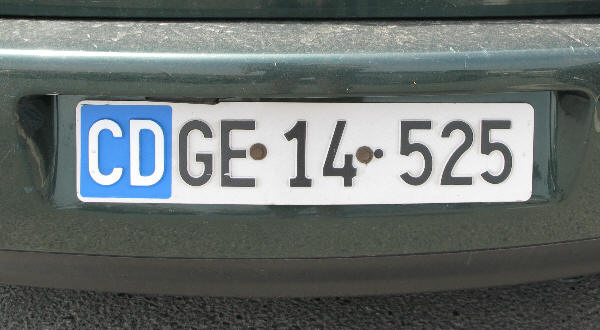license_plate: (76, 101, 533, 204)
